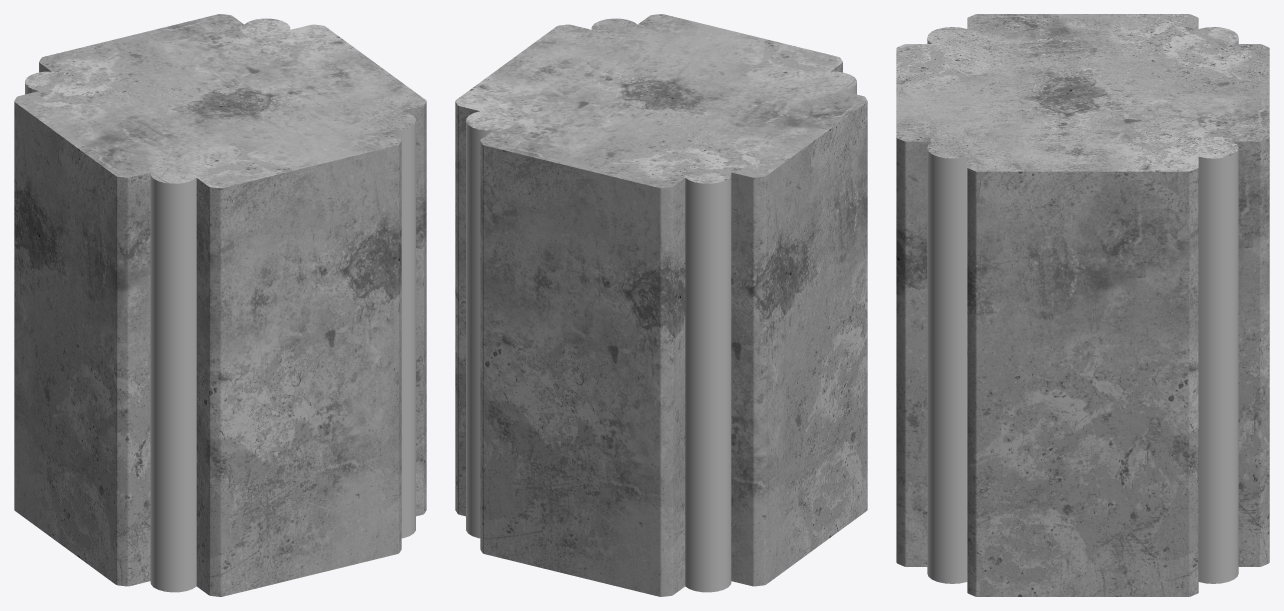
Rendered from SM_Pinbacle_01c.fbx.
3 views of the same model, side by side, from view 1: azimuth 30°, elevation 25°; view 2: azimuth 150°, elevation 25°; view 3: azimuth 270°, elevation 25° (orthographic). The views are drawn at different scales.
Visible parts, largest first — view 1: SM_Pinbacle_01c_LOD0; view 2: SM_Pinbacle_01c_LOD0; view 3: SM_Pinbacle_01c_LOD0.
Part boxes in pixels (x1,y1,x2,y2): SM_Pinbacle_01c_LOD0: (14,14,426,596); SM_Pinbacle_01c_LOD0: (455,14,867,596); SM_Pinbacle_01c_LOD0: (896,14,1269,596).
Size of the model in its own units: 318 by 318 by 400.
